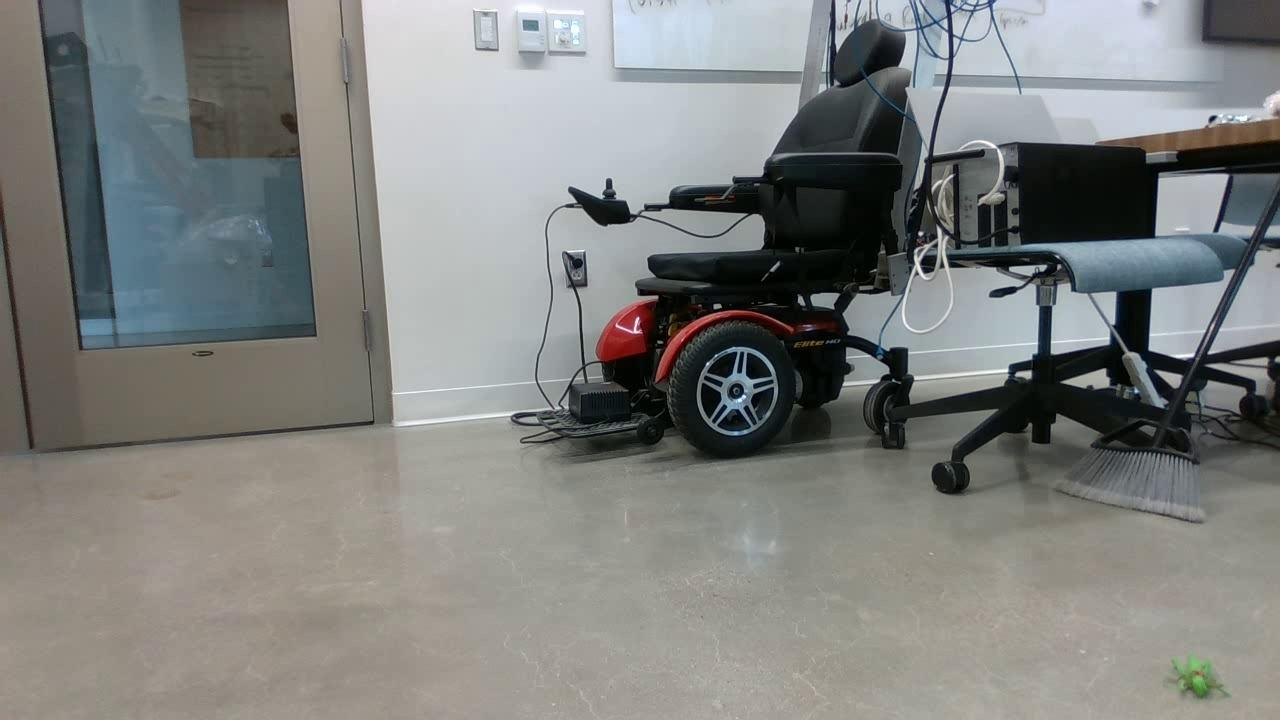grasshopper: (1171, 657, 1225, 695)
